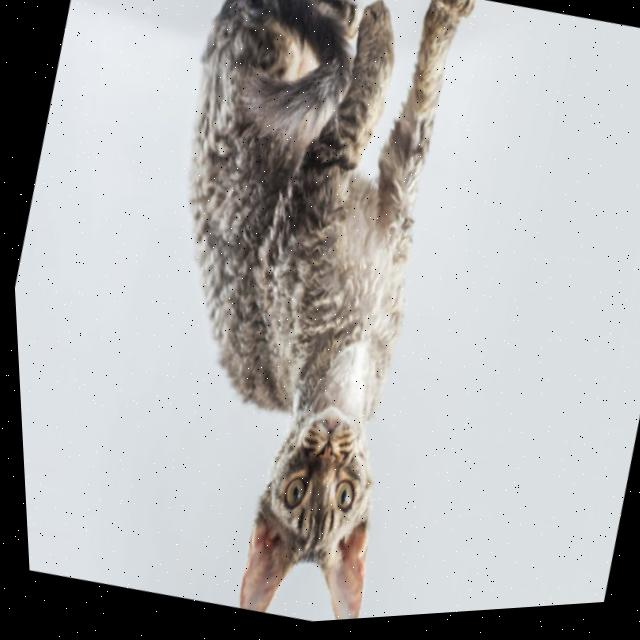Cornish Rex: (61, 0, 511, 637)
